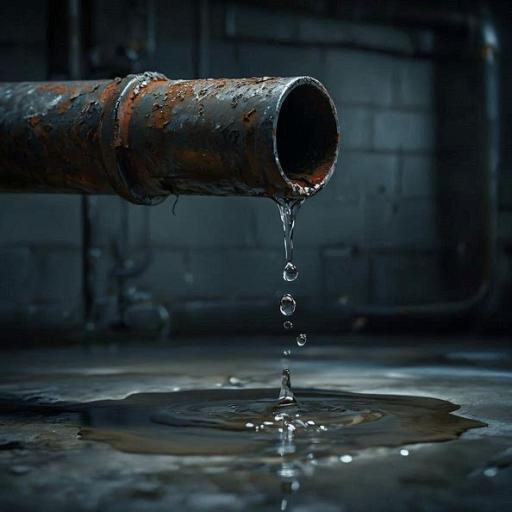water accumulation: (59, 381, 496, 463)
water drop: (271, 188, 303, 283), (278, 293, 298, 317), (296, 332, 308, 348), (281, 318, 294, 332)
